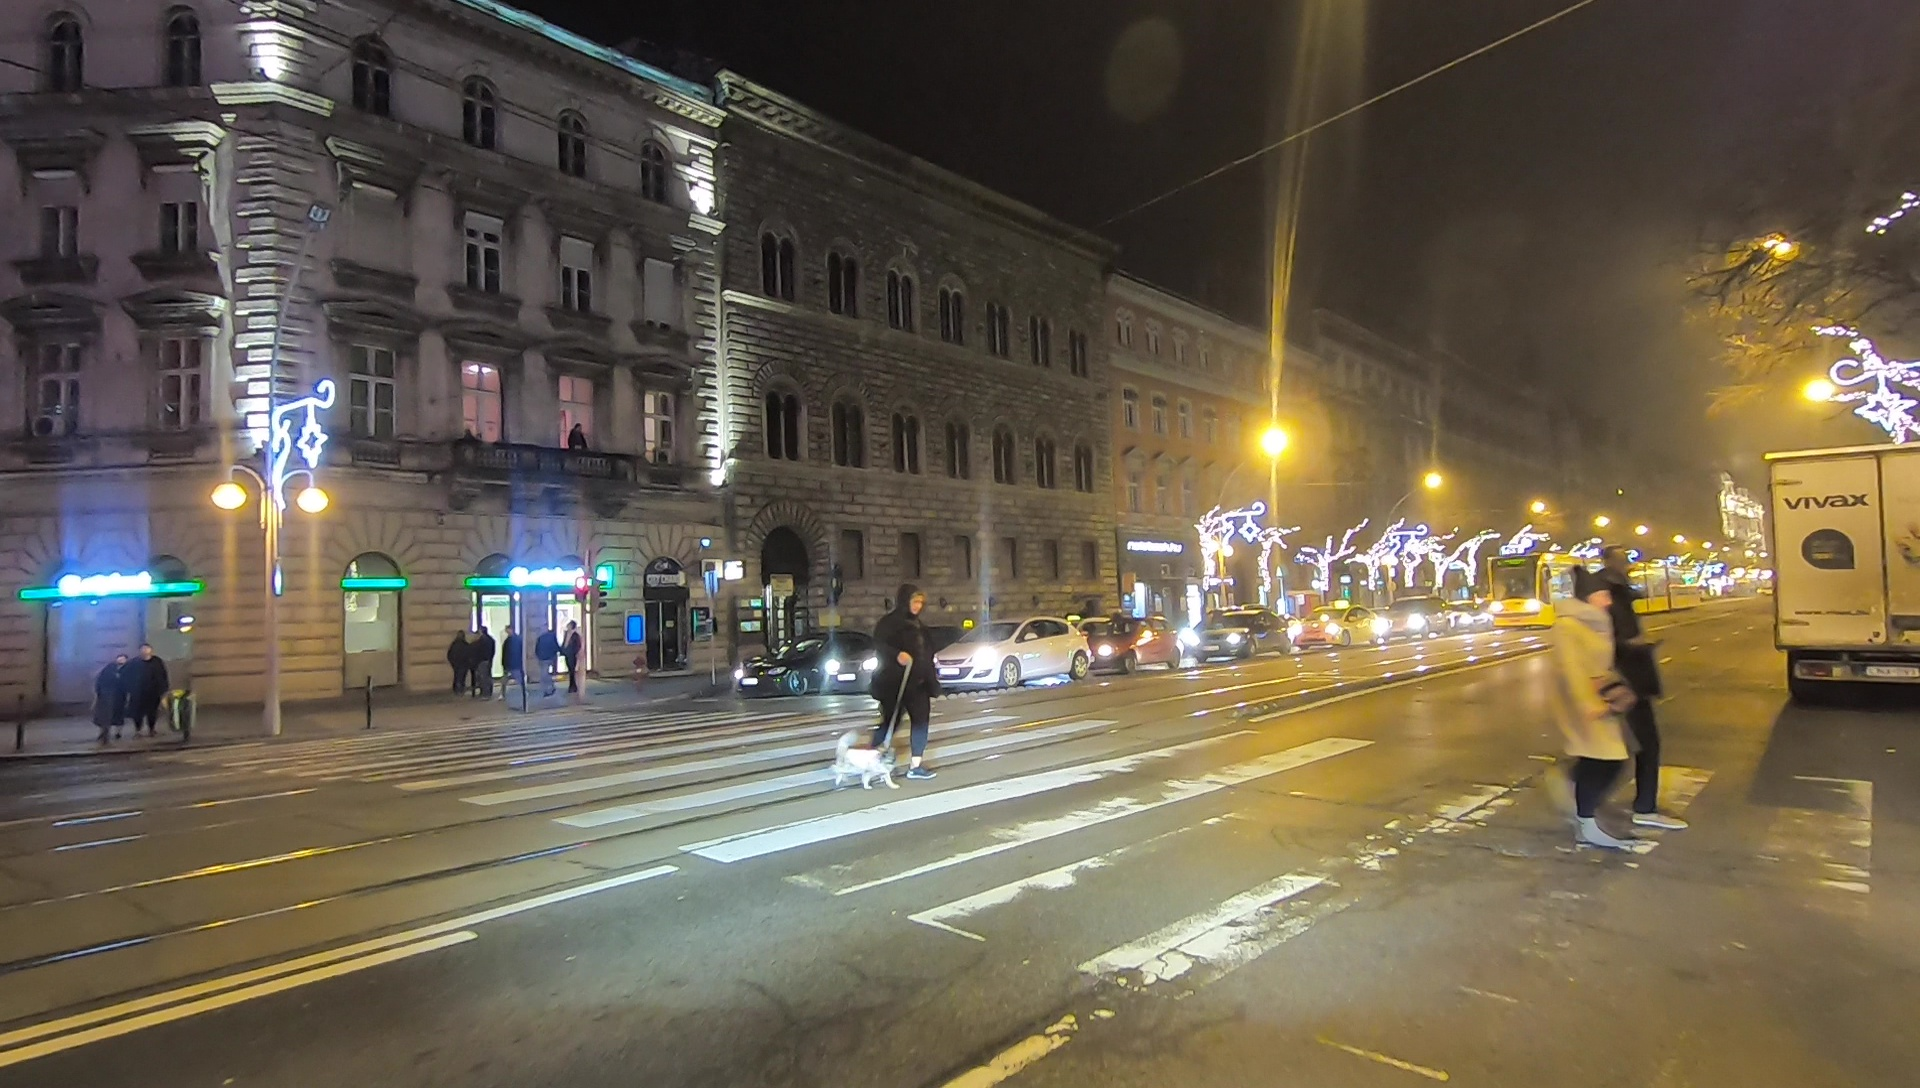person: (1591, 543, 1695, 834), (1554, 571, 1626, 852), (865, 582, 941, 782), (95, 649, 134, 747), (130, 647, 169, 739), (502, 630, 528, 704), (558, 623, 584, 689), (447, 630, 471, 693), (532, 628, 554, 691), (475, 624, 493, 697)
